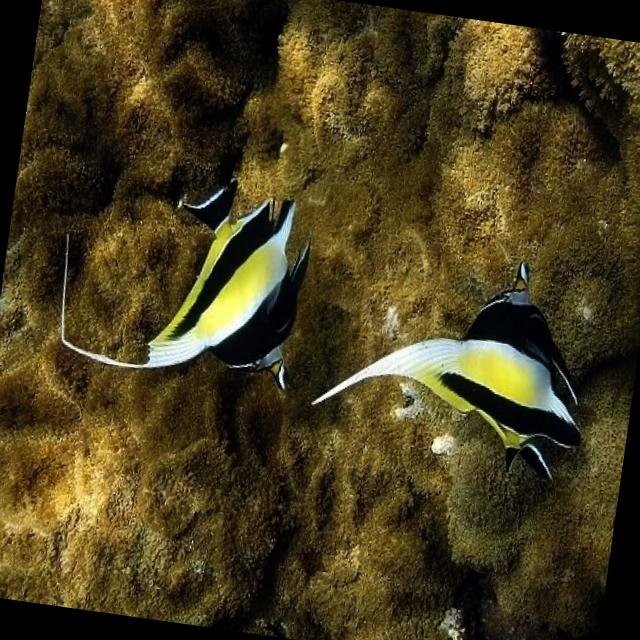MorishIdol: (302, 233, 606, 490), (46, 153, 322, 398)
